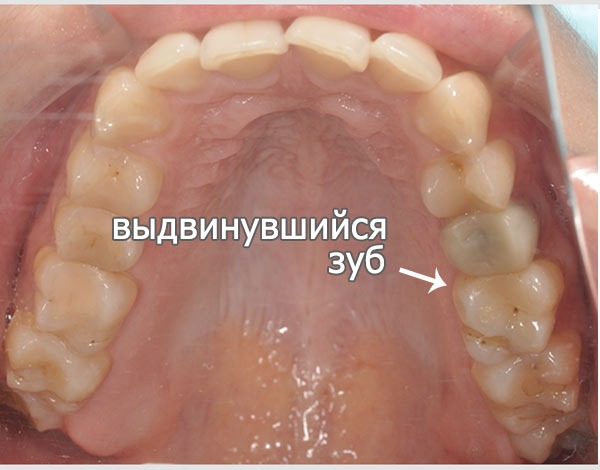UL1BC_decay: (421, 147, 515, 209)
UL1M_decay: (453, 268, 556, 359)
UL2BC_decay: (443, 211, 534, 274)
UL2M_decay: (477, 353, 582, 408)
ULCI_healthy: (288, 19, 369, 78)
ULC_healthy: (425, 72, 488, 153)
ULLI_healthy: (373, 32, 440, 93)
UR1BC_healthy: (66, 141, 159, 216)
UR1M_decay: (34, 252, 134, 352)
UR2BC_decay: (56, 206, 112, 261)
UR2M_healthy: (6, 330, 101, 399)
URCI_healthy: (199, 19, 286, 74)
URC_healthy: (94, 66, 167, 140)
URLI_healthy: (135, 32, 200, 91)
